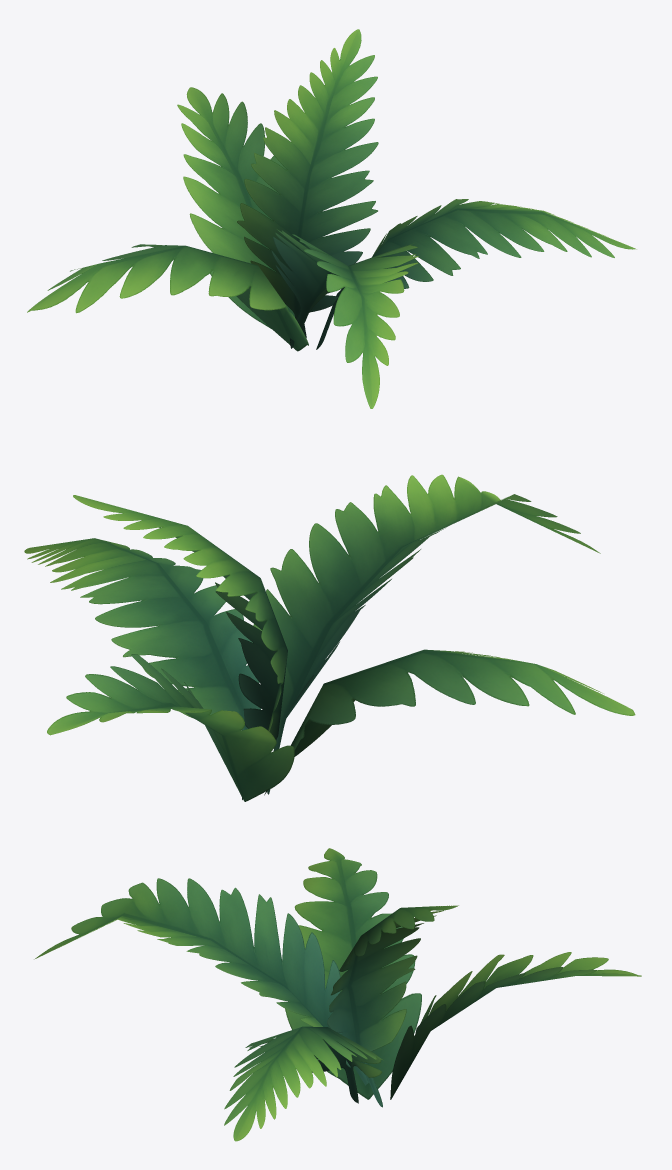
3 views of the same model, one above another, from view 1: azimuth 30°, elevation 25°; view 2: azimuth 150°, elevation 25°; view 3: azimuth 270°, elevation 25° (orthographic). The views are drawn at different scales.
Visible parts, largest first — view 1: pl-fern-bushy; view 2: pl-fern-bushy; view 3: pl-fern-bushy.
Part boxes in pixels (left/top/right/bottom): pl-fern-bushy: left=27, top=29, right=636, bottom=408; pl-fern-bushy: left=24, top=474, right=635, bottom=801; pl-fern-bushy: left=34, top=848, right=641, bottom=1141.
Bounding box in the file's own units: 2.28 × 1.04 × 2.28.
Materials: 1 (1 with a texture image).
